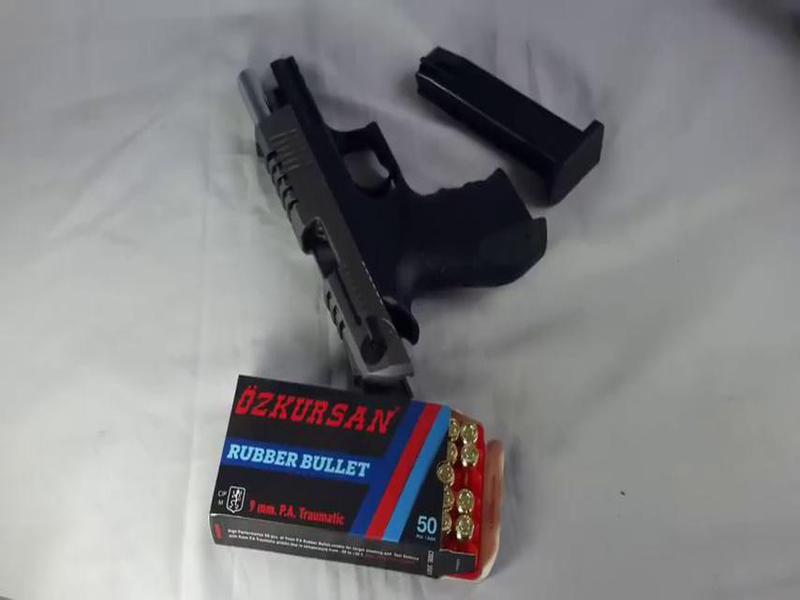Pistola: (230, 47, 574, 393)
